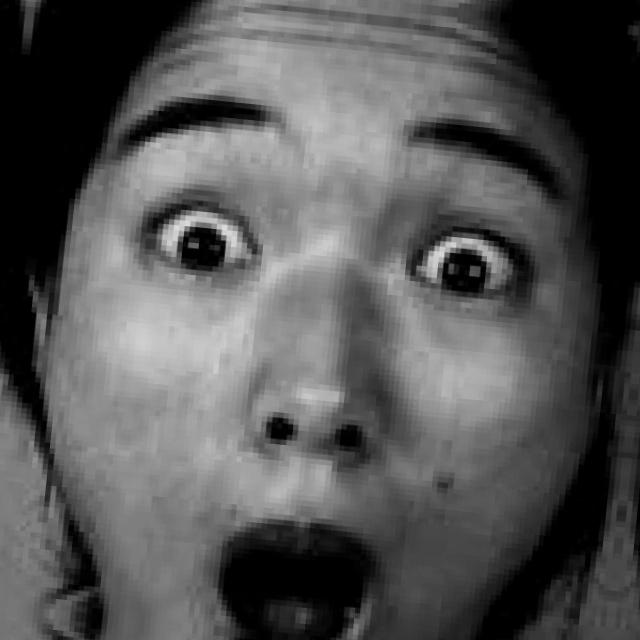surprise: (48, 41, 597, 640)
